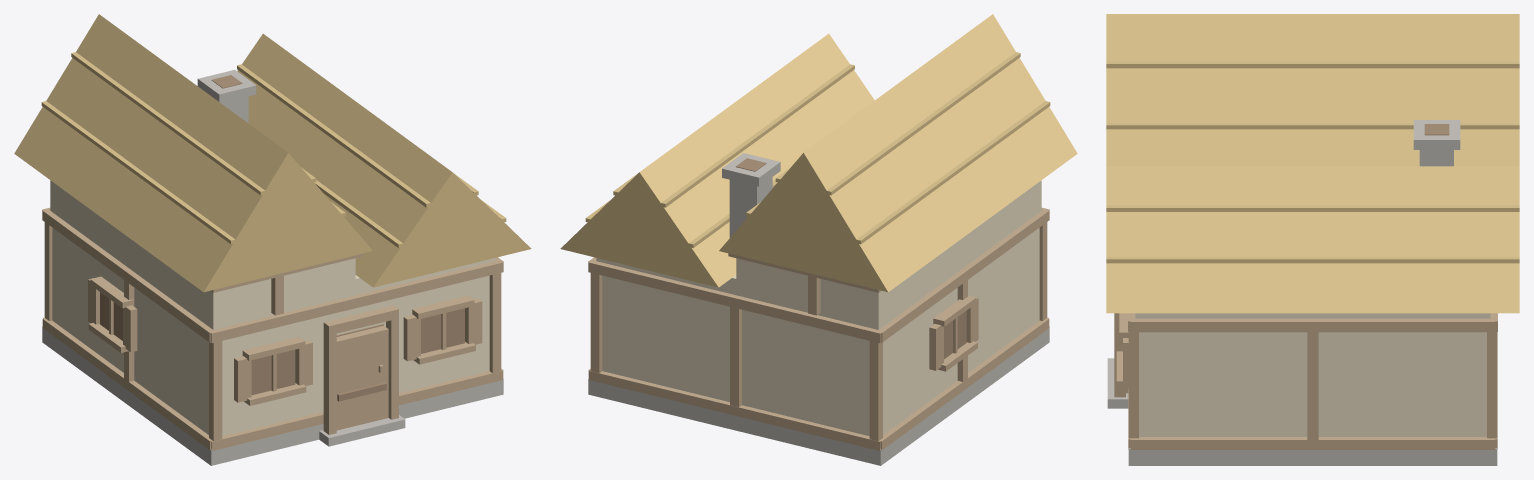
File: house-twin-gable.glb
3 views of the same model, side by side, from view 1: azimuth 30°, elevation 25°; view 2: azimuth 150°, elevation 25°; view 3: azimuth 270°, elevation 25° (orthographic). The views are drawn at different scales.
Parts seen in each view (by area): view 1: house-twin-gable_roof, house-twin-gable_plaster, house-twin-gable_wood, house-twin-gable_stone, house-twin-gable_door, house-twin-gable_window; view 2: house-twin-gable_roof, house-twin-gable_plaster, house-twin-gable_wood, house-twin-gable_stone, house-twin-gable_window; view 3: house-twin-gable_roof, house-twin-gable_plaster, house-twin-gable_wood, house-twin-gable_stone.
Boxes of the visible parts, <box> form: house-twin-gable_roof: <box>14,14,531,292</box>; house-twin-gable_plaster: <box>50,180,495,436</box>; house-twin-gable_wood: <box>42,207,503,450</box>; house-twin-gable_stone: <box>42,69,503,465</box>; house-twin-gable_door: <box>336,325,388,430</box>; house-twin-gable_window: <box>100,75,464,401</box>; house-twin-gable_roof: <box>560,14,1077,292</box>; house-twin-gable_plaster: <box>596,180,1041,436</box>; house-twin-gable_wood: <box>588,207,1049,450</box>; house-twin-gable_stone: <box>588,153,1049,465</box>; house-twin-gable_window: <box>735,158,966,359</box>; house-twin-gable_roof: <box>1106,14,1519,313</box>; house-twin-gable_plaster: <box>1135,313,1490,436</box>; house-twin-gable_wood: <box>1114,313,1497,449</box>; house-twin-gable_stone: <box>1107,120,1497,465</box>.
Bounding box in the file's own units: 2 × 1.78 × 2.
